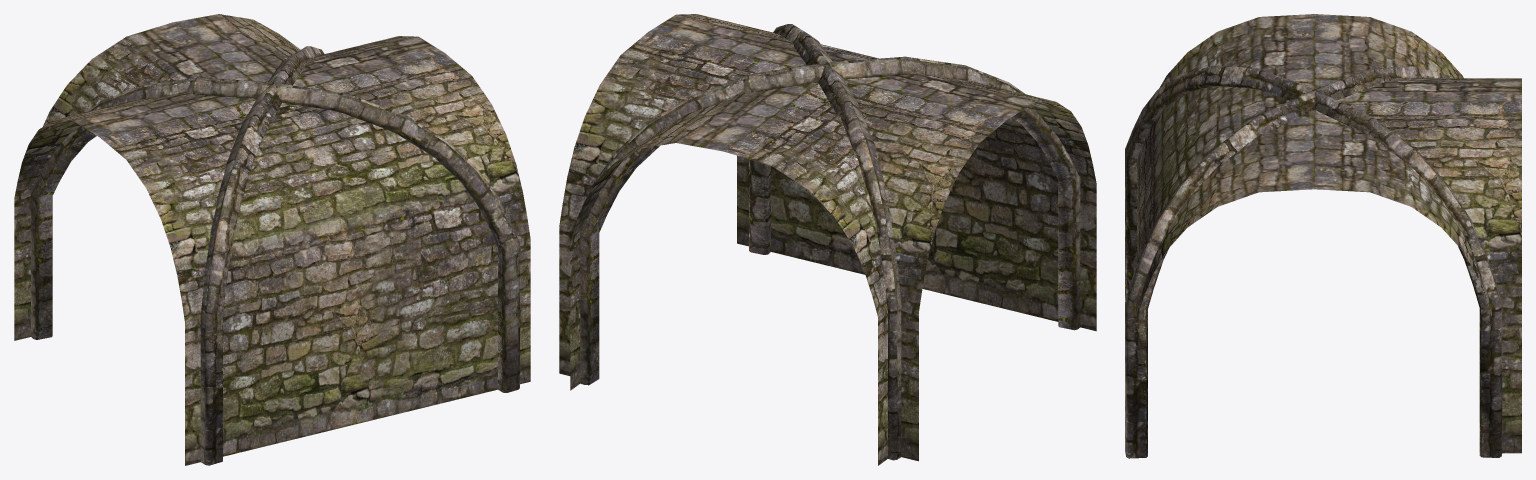
File: Tunnel_Tri.FBX
3 views of the same model, side by side, from view 1: azimuth 30°, elevation 25°; view 2: azimuth 150°, elevation 25°; view 3: azimuth 270°, elevation 25° (orthographic). The views are drawn at different scales.
Visible parts, largest first — view 1: Tunnel_Tri; view 2: Tunnel_Tri; view 3: Tunnel_Tri.
Part boxes in pixels (left/top/right/bottom): Tunnel_Tri: left=14, top=14, right=530, bottom=465; Tunnel_Tri: left=559, top=14, right=1096, bottom=465; Tunnel_Tri: left=1125, top=14, right=1521, bottom=458.
Bounding box in the file's own units: 400 × 307 × 383.
